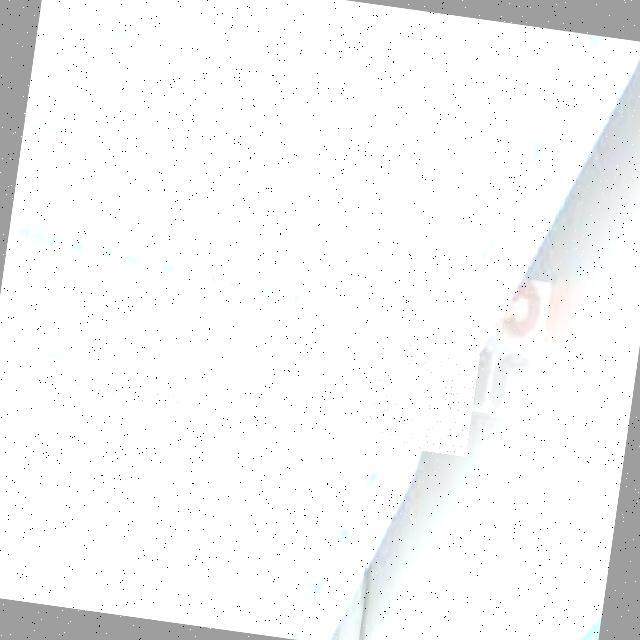Deframe: (367, 329, 482, 457)
Minor-Dent: (31, 375, 196, 418)
